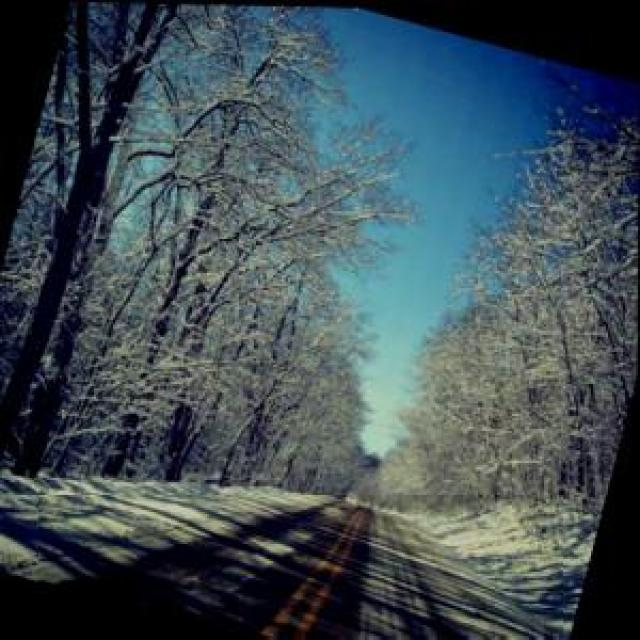clear-road: (38, 497, 561, 638)
